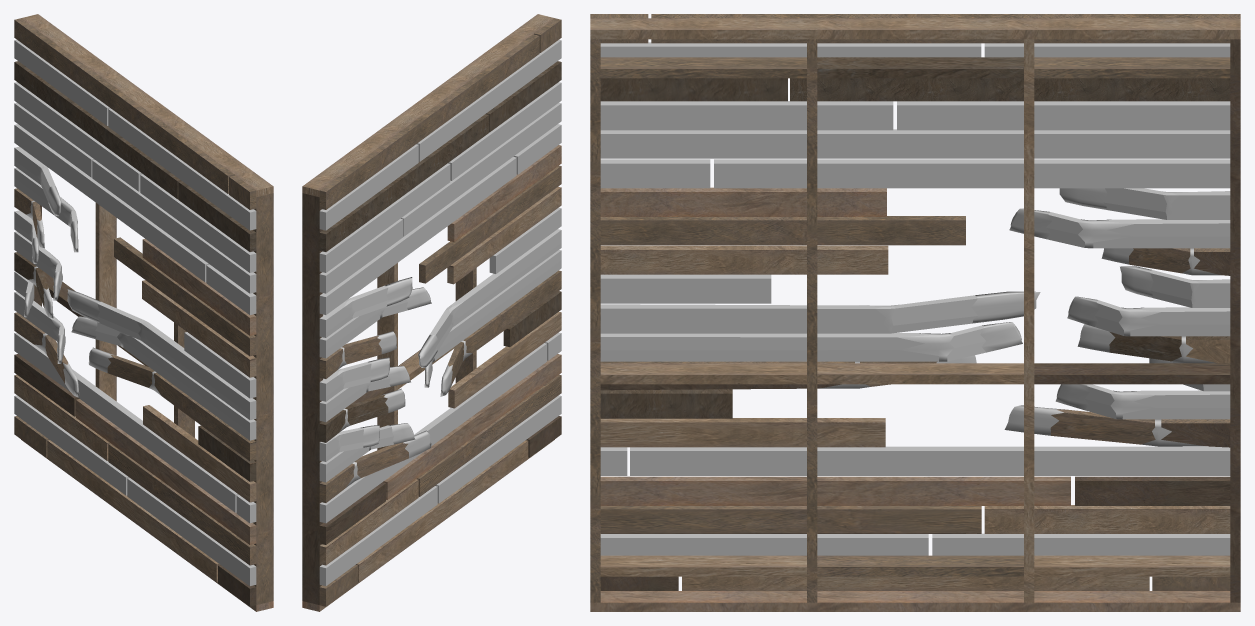
The model's file is WoodWallC.fbx.
The picture shows the model from 3 angles, left to right: view 1: azimuth 30°, elevation 25°; view 2: azimuth 150°, elevation 25°; view 3: azimuth 270°, elevation 25°; orthographic projection. The views are drawn at different scales.
Visible parts, largest first — view 1: WoodWallC; view 2: WoodWallC; view 3: WoodWallC.
Boxes of the visible parts, box(x1,y1,x2,y2) form: WoodWallC: box(14, 14, 273, 611); WoodWallC: box(302, 14, 561, 611); WoodWallC: box(590, 14, 1240, 611).
Bounding box in the file's own units: 43.5 × 374 × 379.
